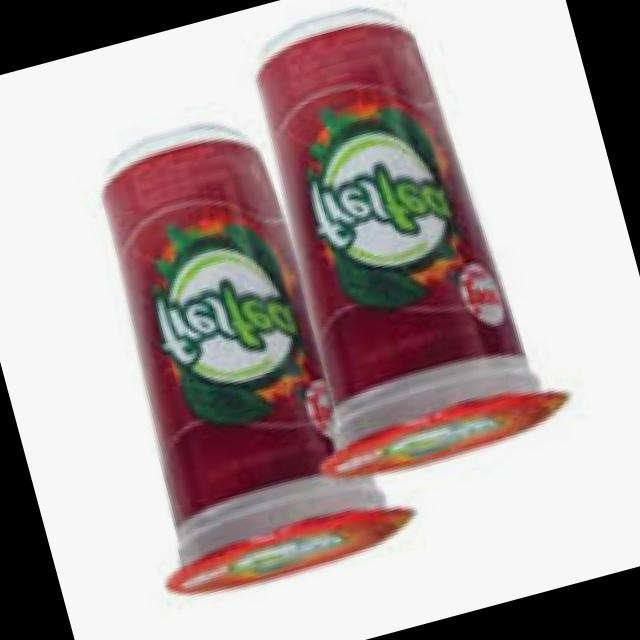GelasPlastik: (49, 98, 423, 612), (204, 0, 579, 496)
